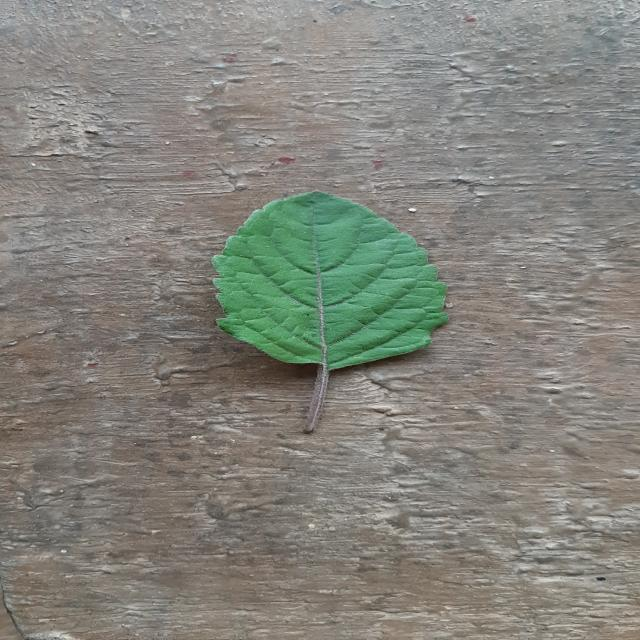tulsi: (211, 191, 447, 369)
